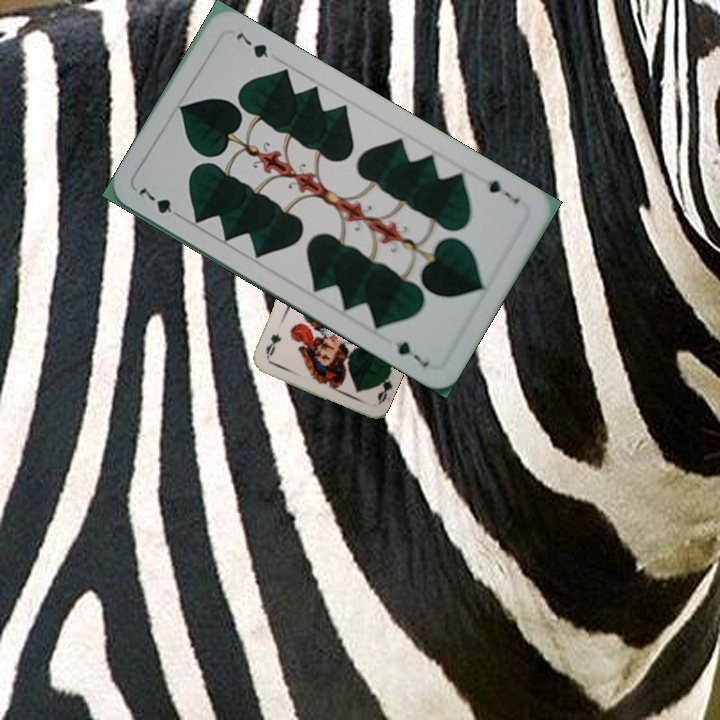G7: (134, 184, 186, 222), (483, 175, 522, 207)
GO: (372, 367, 394, 406)
